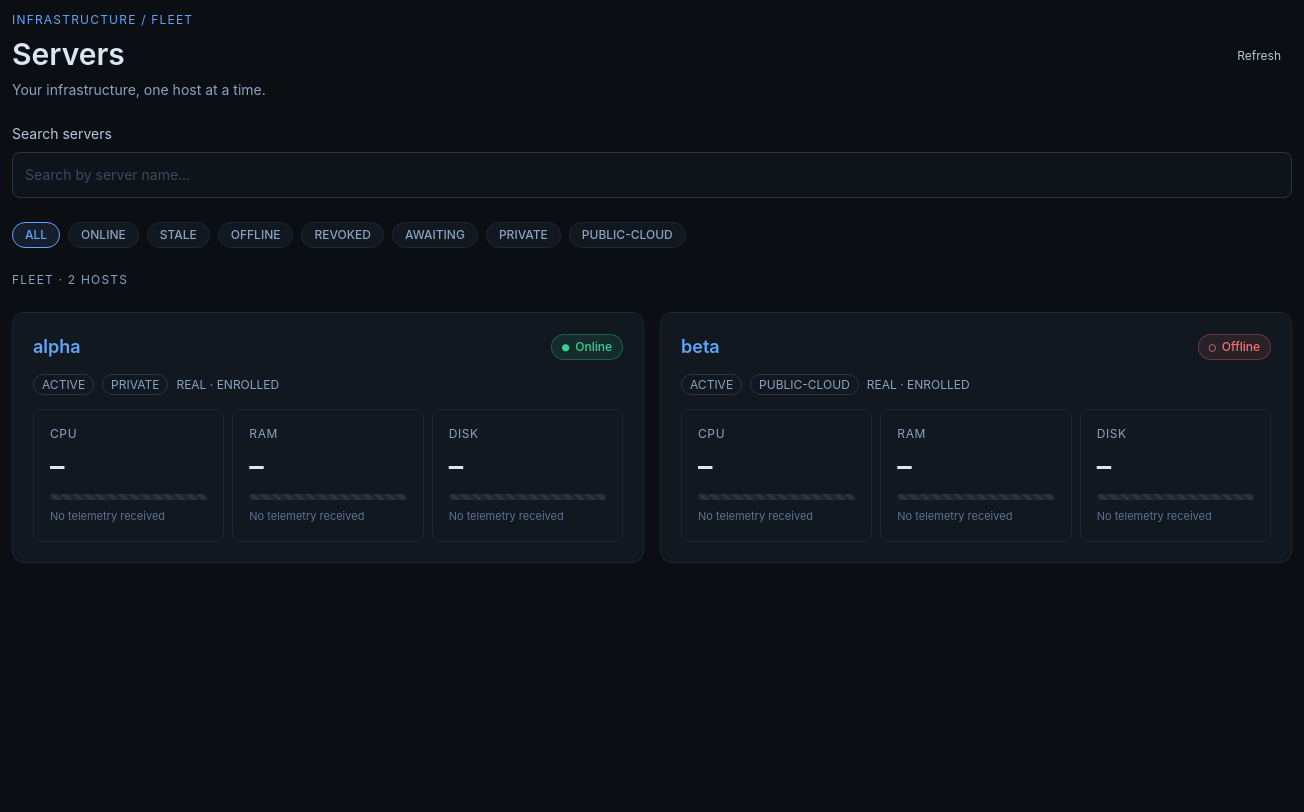
it: filters hosts by environment chip
The image size is (1304, 812).
Expected: the link "alpha" is shown, x1=33 y1=333 x2=81 y2=361
Click the button "PUBLIC-CLOUD" at (627, 235), box x1=569 y1=222 x2=686 y2=248
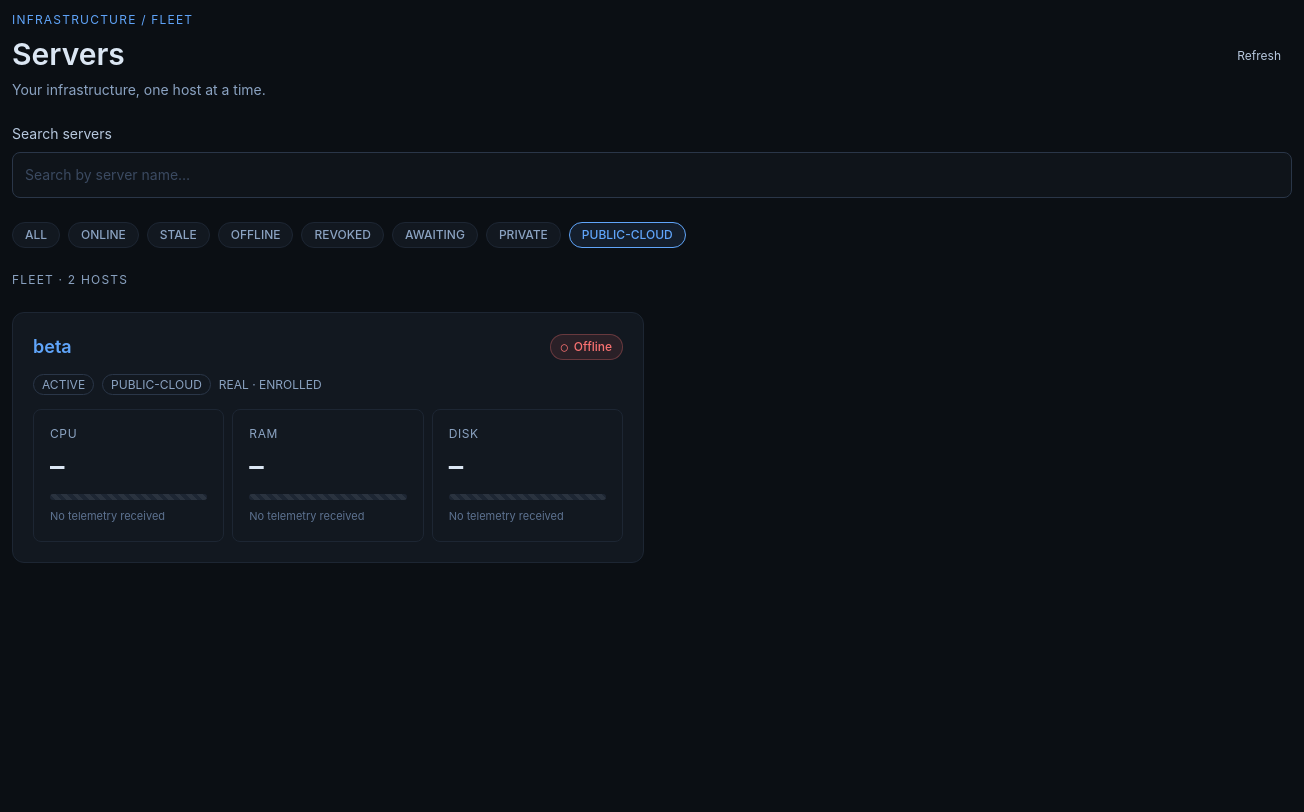
Expected: the link "beta" is shown, x1=33 y1=333 x2=72 y2=361
Expected: the link "alpha" is gone
Click the button "ALL" at (36, 235), box x1=12 y1=222 x2=60 y2=248
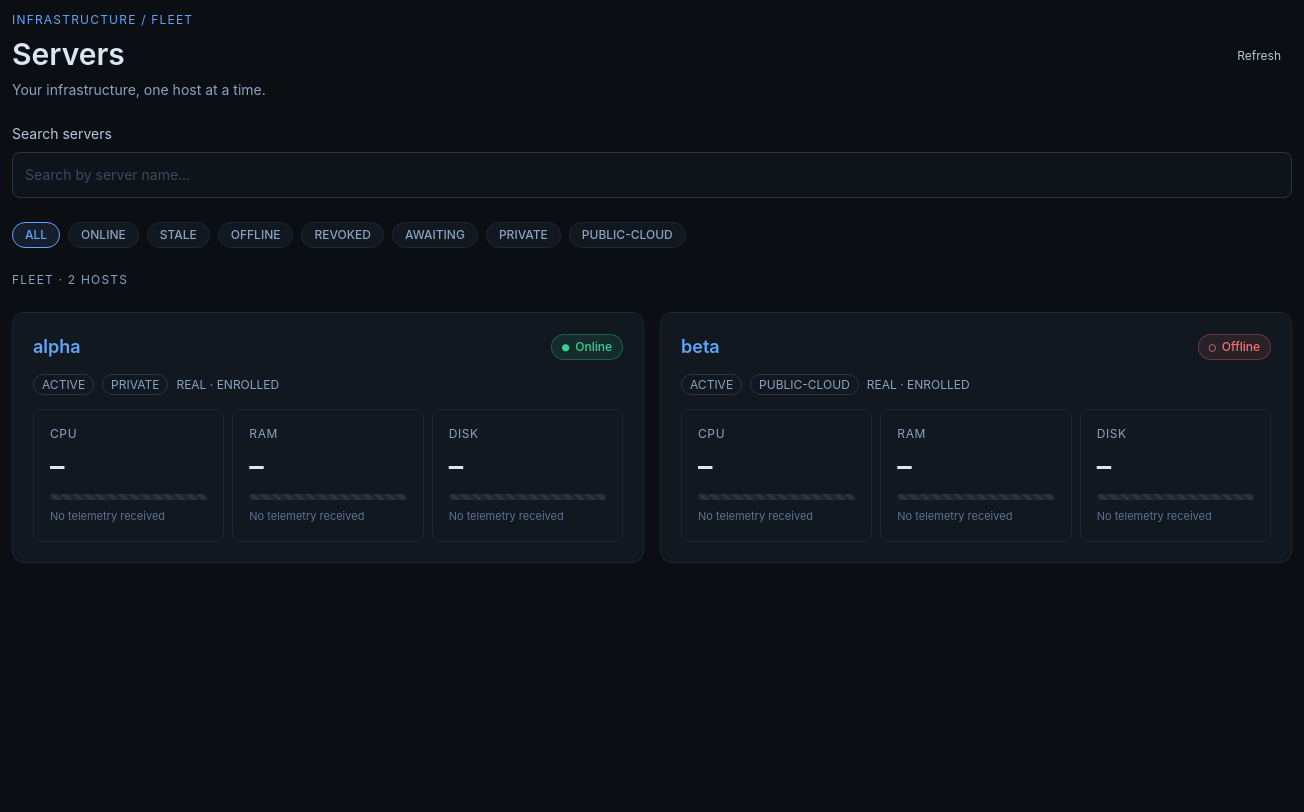
Expected: the link "alpha" is shown, x1=33 y1=333 x2=81 y2=361
